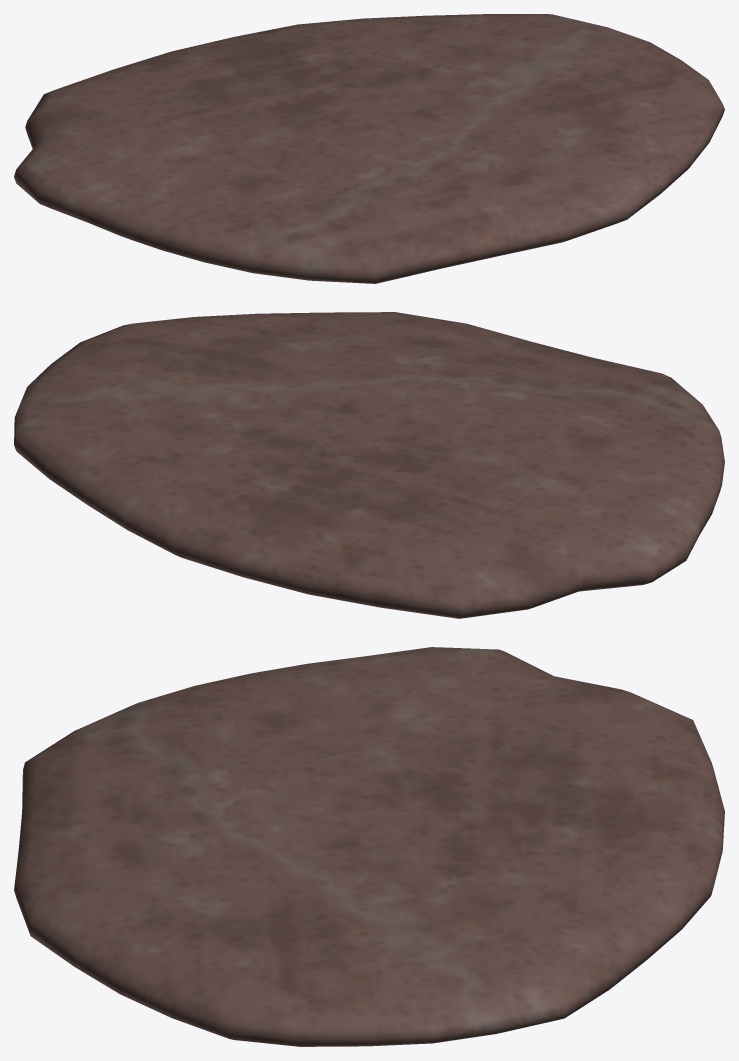
The model's file is small_wafer_04.glb.
3 views of the same model, one above another, from view 1: azimuth 30°, elevation 25°; view 2: azimuth 150°, elevation 25°; view 3: azimuth 270°, elevation 25° (orthographic). The views are drawn at different scales.
Visible parts, largest first — view 1: small_wafer_04; view 2: small_wafer_04; view 3: small_wafer_04.
Part boxes in pixels (x1=…): small_wafer_04: x1=14, y1=14, x2=724, y2=283; small_wafer_04: x1=14, y1=312, x2=724, y2=618; small_wafer_04: x1=14, y1=647, x2=724, y2=1046.
Size of the model in its own units: 0.0593 by 0.00514 by 0.0464.
1 material, 1 textured.
